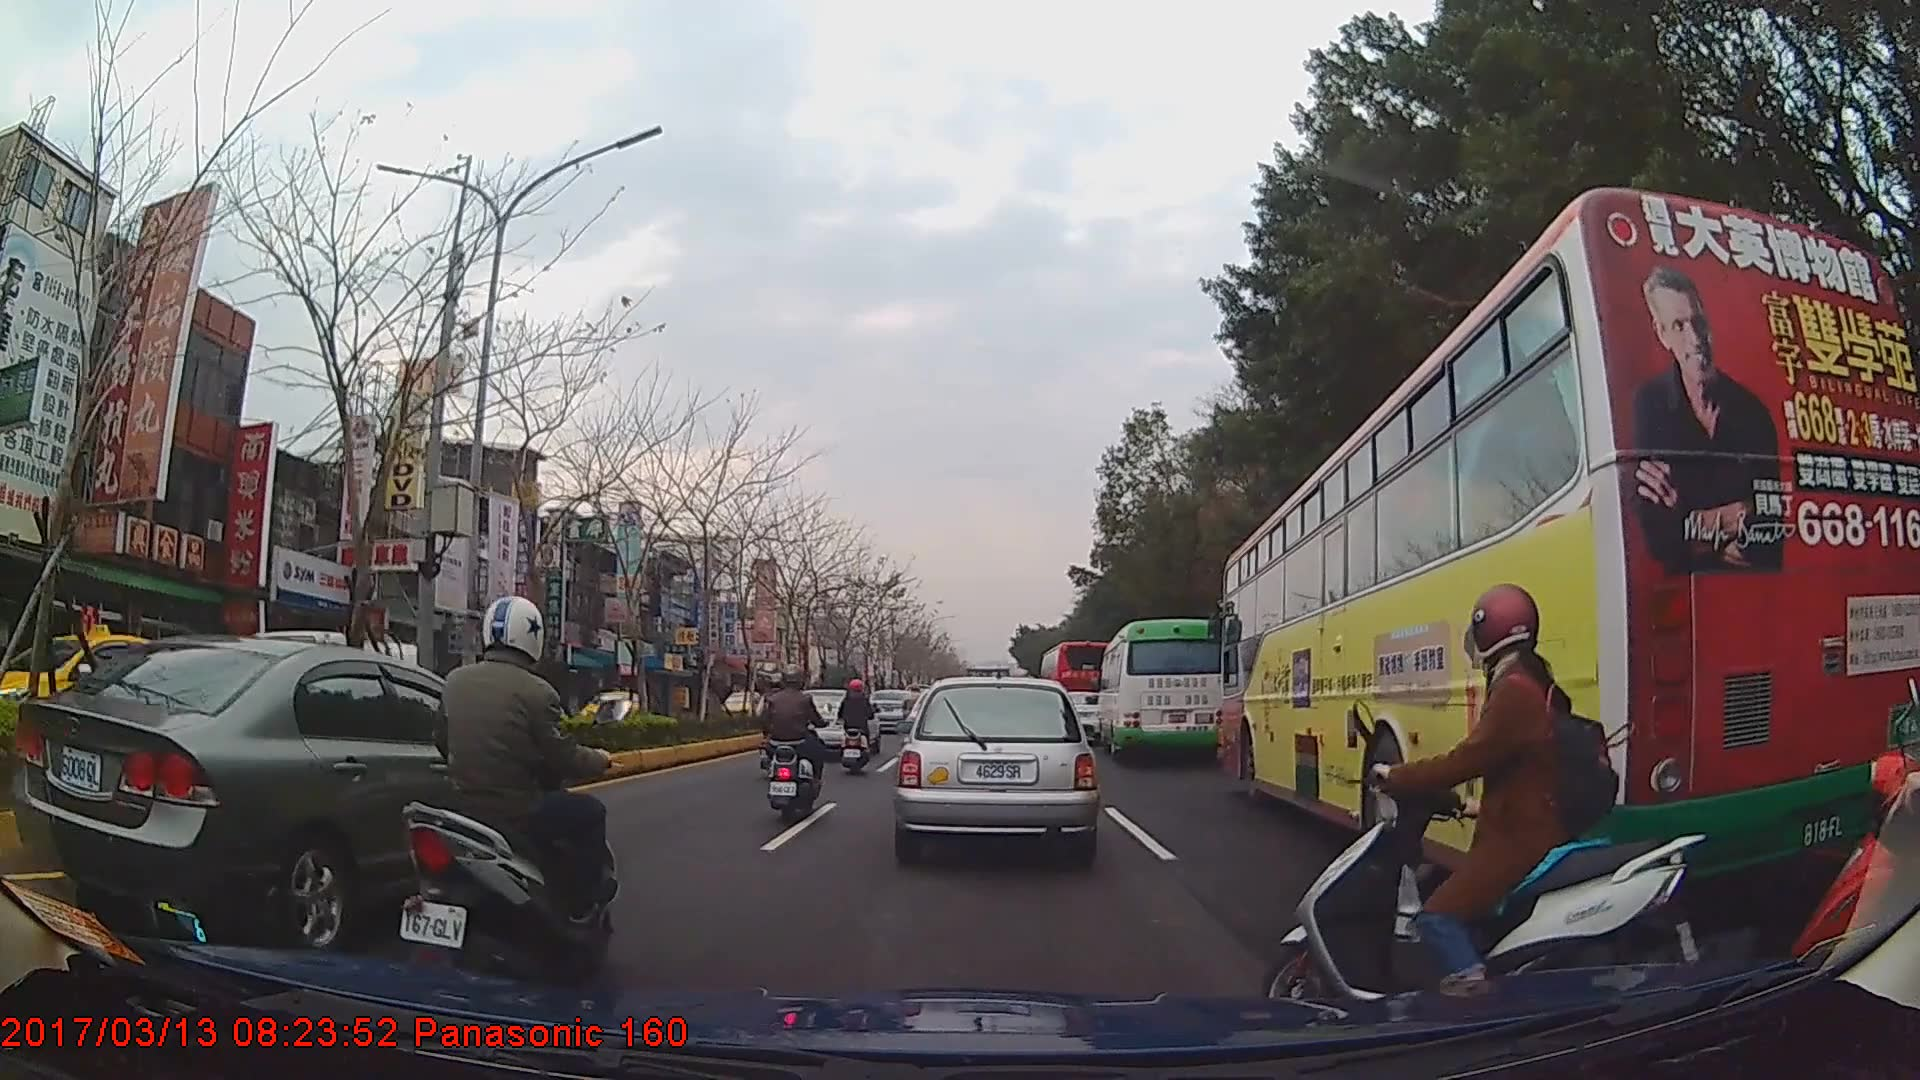rider: (1253, 582, 1705, 1039), (386, 595, 621, 996), (756, 661, 828, 822), (838, 675, 878, 777)
vehicle: (1219, 183, 1920, 899), (13, 633, 565, 947), (894, 672, 1098, 862), (1096, 617, 1224, 762), (1036, 637, 1116, 734), (783, 686, 879, 764), (571, 685, 650, 735)
